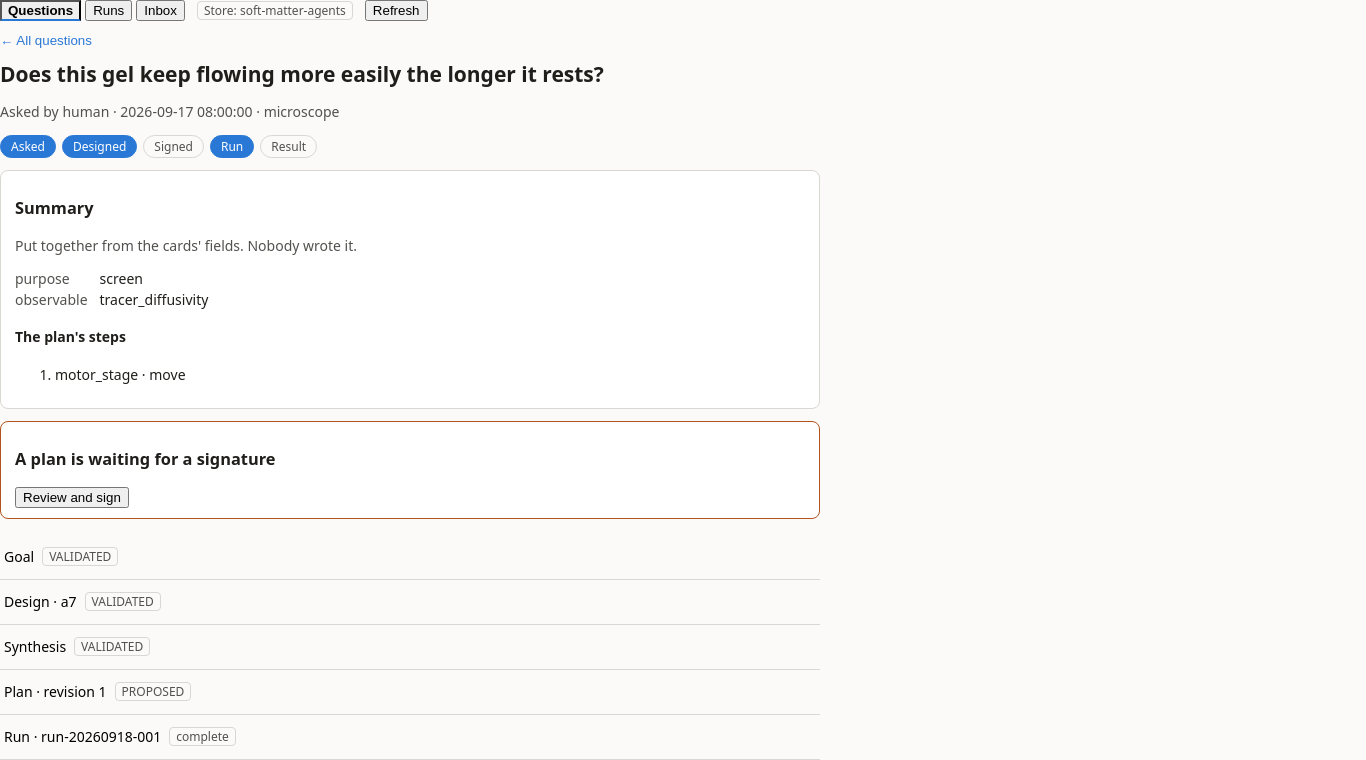
the sign dialog › says when nothing in the plan is irreversible
The image size is (1366, 760).
Click the button "Review and sign" at (72,497), box x1=15 y1=487 x2=129 y2=508
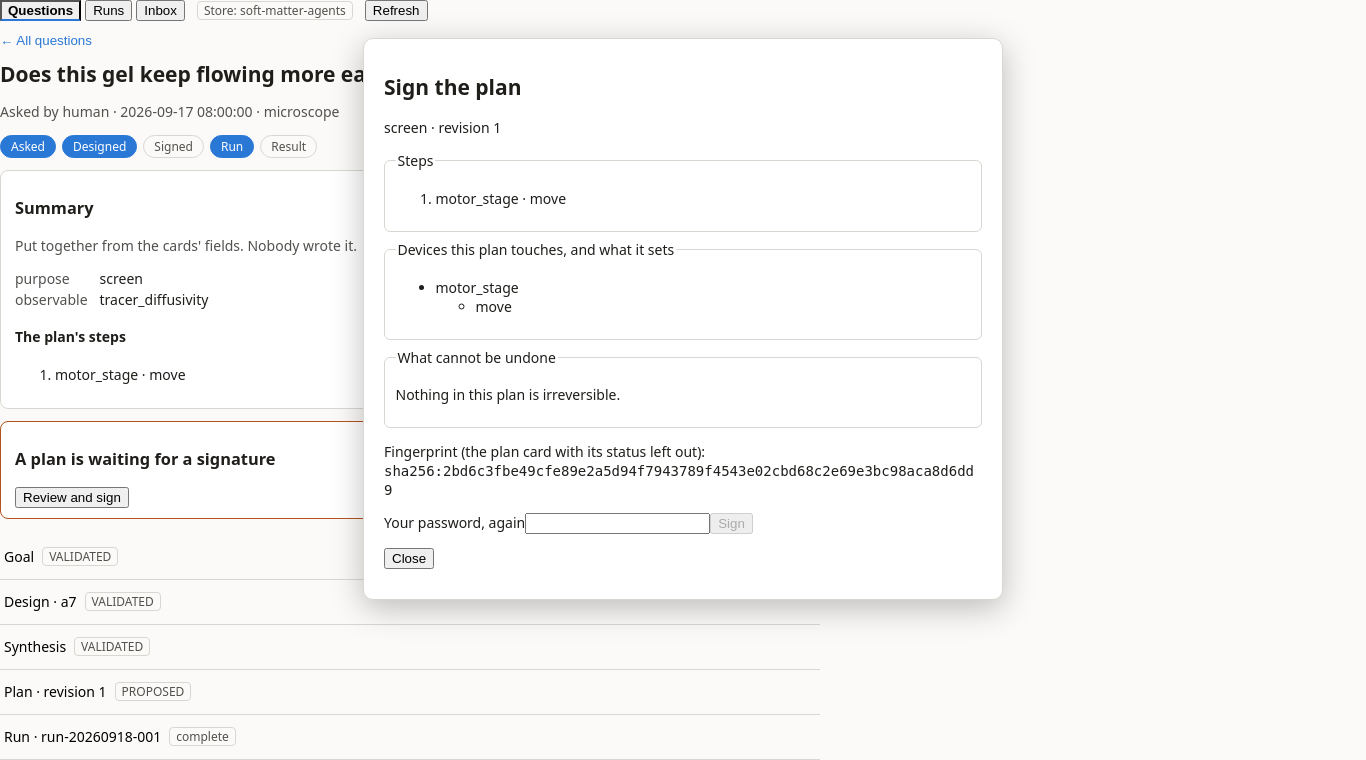
Check: the element "What cannot be undone" shows "Nothing in this plan is irreversible", box x1=396 y1=385 x2=620 y2=404
Check: the element "Devices this plan touches" shows "motor_stage", box x1=436 y1=278 x2=519 y2=297
